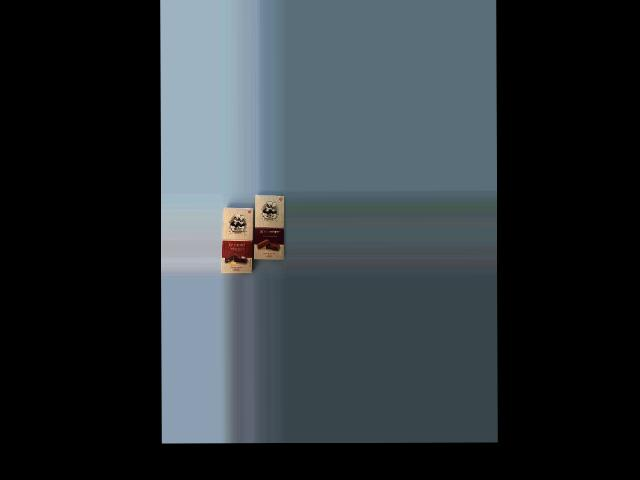chocolate: (220, 204, 259, 275)
